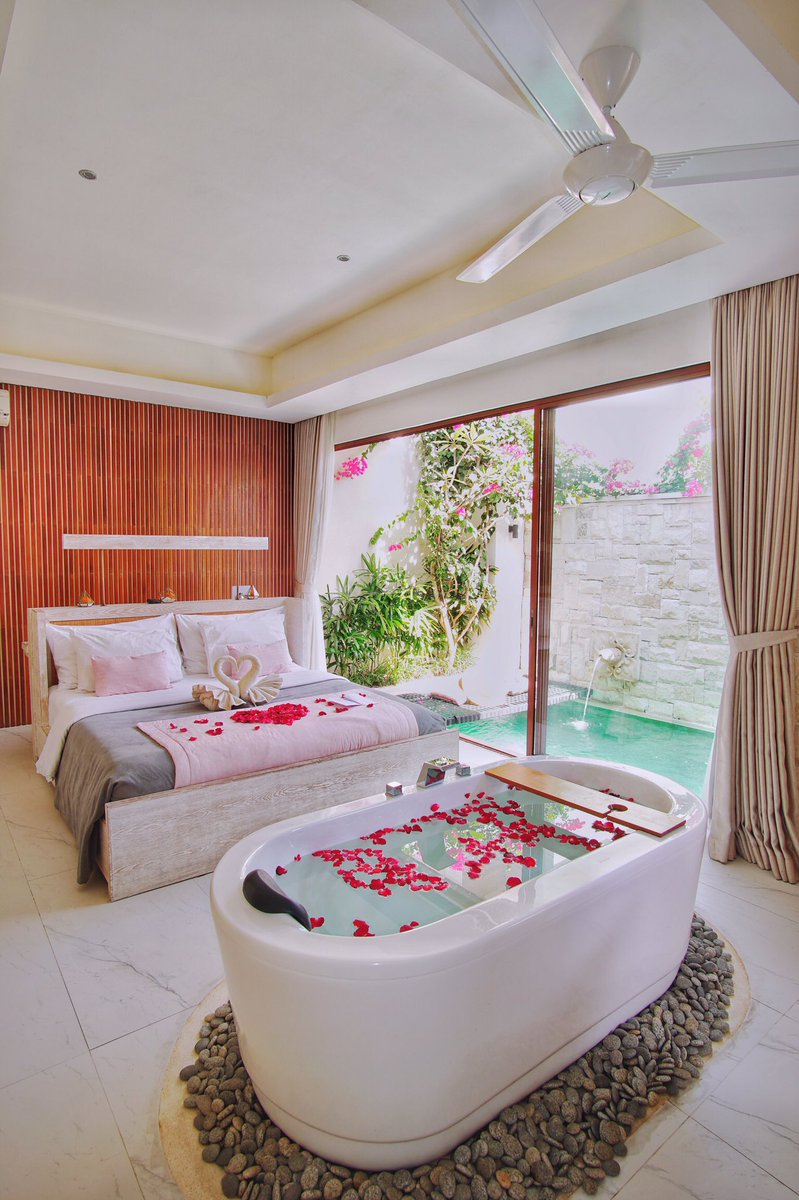tanaman: (417, 434, 500, 653), (324, 540, 415, 683)
